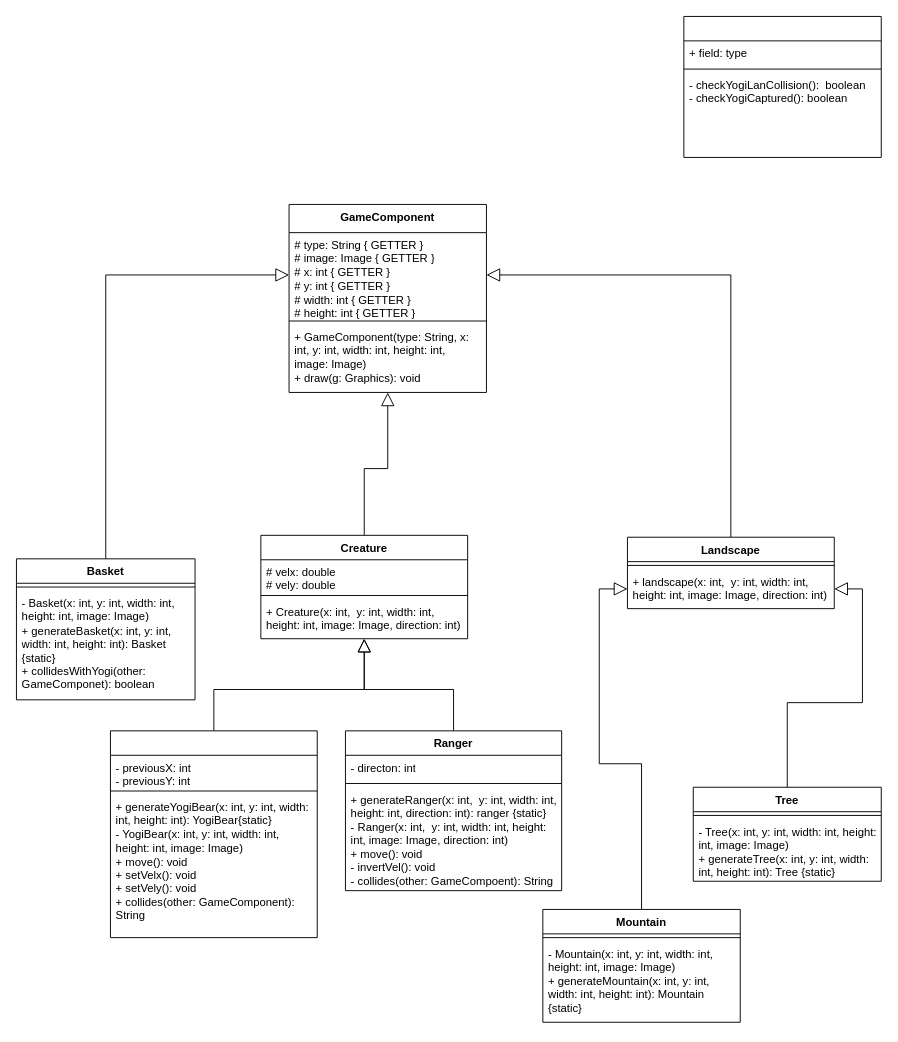
Some shapes in this 898 by 1042 pixel diagram are drawn without their labels. The box of each missing label's shape, as (x1, y1, x2, y2) in pixels:
YogiBeaer: (110, 730, 317, 938)
YogiGameModule: (683, 16, 881, 157)
